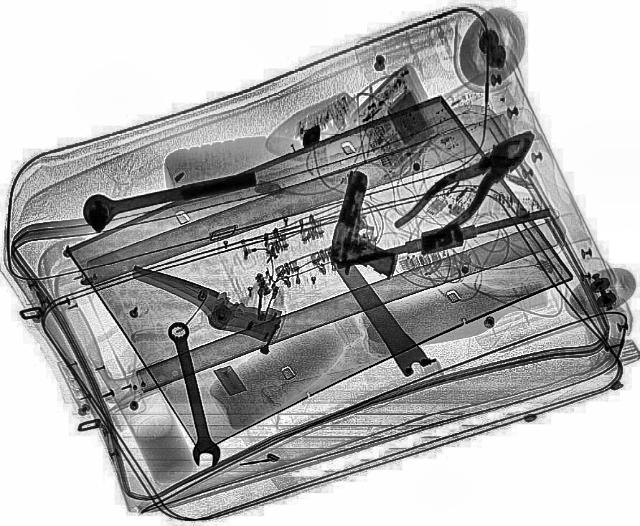Gun: (320, 169, 420, 281)
Pliers: (388, 116, 552, 251)
Wrench: (164, 322, 222, 470)
